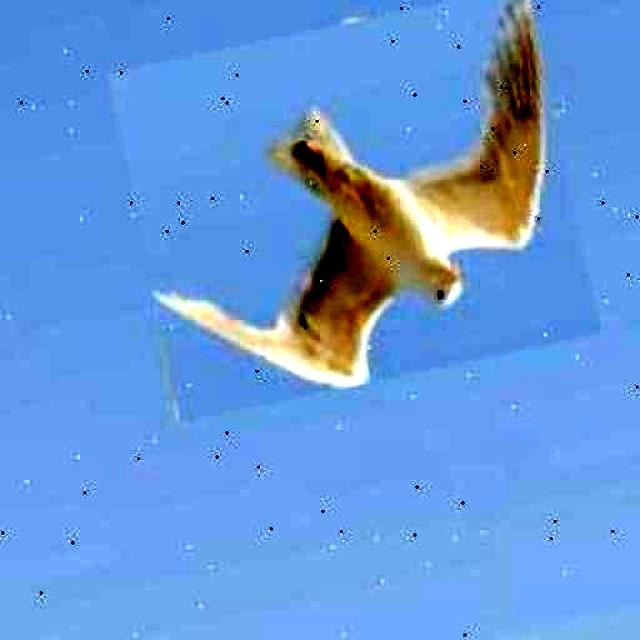airplane: (105, 0, 601, 422)
